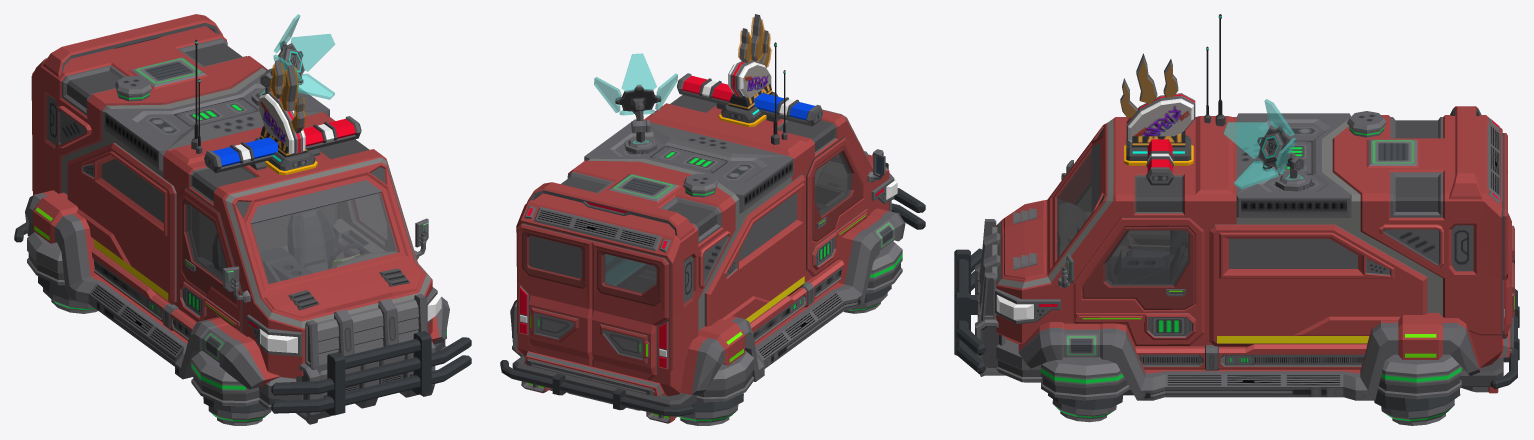
The model's file is SM_Veh_SUV_01.fbx.
3 renders of one model, left to right at view 1: azimuth 30°, elevation 25°; view 2: azimuth 150°, elevation 25°; view 3: azimuth 270°, elevation 25°, orthographic. The views are drawn at different scales.
Parts seen in each view (by area): view 1: SM_Veh_SUV_01, SM_Veh_SUV_01_Satellite_Fins_01, SM_Veh_SUV_01_DoorR_Window_01, SM_Veh_SUV_01_DoorL_Window_01, SM_Veh_SUV_01_FastFood_Flames_01; view 2: SM_Veh_SUV_01, SM_Veh_SUV_01_Satellite_Fins_01, SM_Veh_SUV_01_RearDoorL_Window_01, SM_Veh_SUV_01_DoorR_Window_01, SM_Veh_SUV_01_RearDoorR_Window_01, SM_Veh_SUV_01_FastFood_Flames_01; view 3: SM_Veh_SUV_01, SM_Veh_SUV_01_DoorL_Window_01, SM_Veh_SUV_01_Satellite_Fins_01, SM_Veh_SUV_01_FastFood_Flames_01.
Boxes of the visible parts, x1,y1,x2,y2 form: SM_Veh_SUV_01: [14, 14, 471, 425]; SM_Veh_SUV_01_Satellite_Fins_01: [273, 14, 335, 99]; SM_Veh_SUV_01_DoorR_Window_01: [186, 203, 226, 282]; SM_Veh_SUV_01_DoorL_Window_01: [353, 194, 386, 240]; SM_Veh_SUV_01_FastFood_Flames_01: [270, 62, 305, 132]; SM_Veh_SUV_01: [500, 14, 925, 425]; SM_Veh_SUV_01_Satellite_Fins_01: [594, 53, 677, 115]; SM_Veh_SUV_01_RearDoorL_Window_01: [529, 236, 581, 278]; SM_Veh_SUV_01_DoorR_Window_01: [815, 152, 851, 216]; SM_Veh_SUV_01_RearDoorR_Window_01: [603, 254, 656, 293]; SM_Veh_SUV_01_FastFood_Flames_01: [738, 17, 771, 67]; SM_Veh_SUV_01: [954, 14, 1519, 425]; SM_Veh_SUV_01_DoorL_Window_01: [1105, 230, 1188, 286]; SM_Veh_SUV_01_Satellite_Fins_01: [1223, 99, 1296, 189]; SM_Veh_SUV_01_FastFood_Flames_01: [1121, 61, 1177, 118].
Size of the model in its own units: 353 by 462 by 699.
